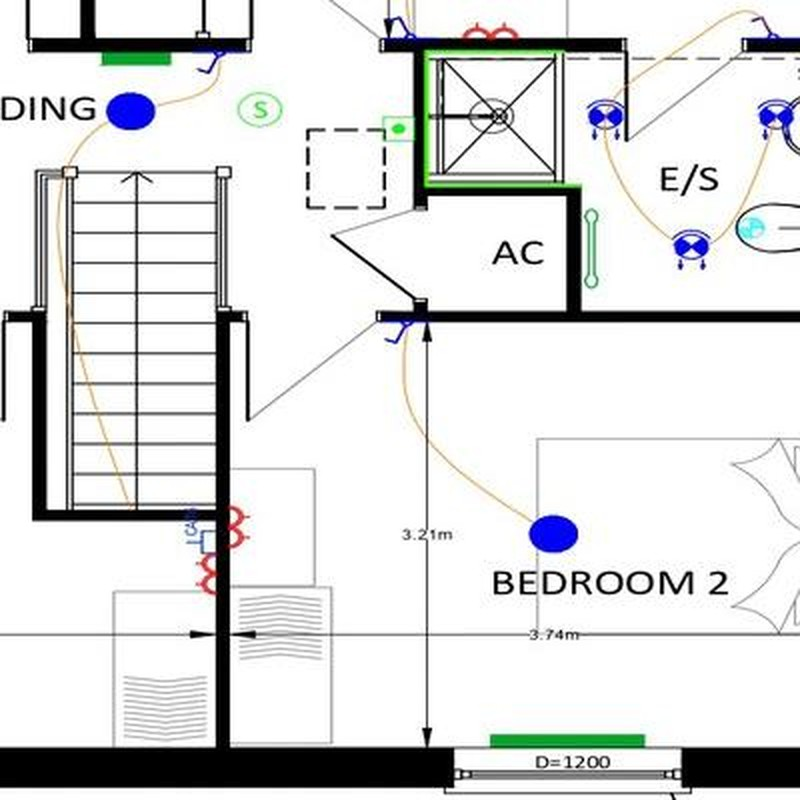Cat 6 Data Socket: (184, 507, 216, 555)
Ceiling Mounted Continuous Extract FanWith Boost Mode Activated By Light Switch: (739, 218, 764, 238)
Double Socket: (229, 506, 251, 548), (195, 554, 216, 596), (464, 23, 518, 39)
Full Height Tiling: (424, 51, 579, 188)
Light Switch: (750, 16, 780, 38), (385, 322, 413, 345), (198, 52, 226, 75), (392, 17, 418, 37)
Low Energy Downlighter: (670, 229, 711, 269), (586, 99, 625, 140), (757, 99, 795, 139)
Low Energy Pendant Light: (530, 515, 578, 553), (107, 93, 156, 130)
Mains Wired Smoke Detector: (239, 94, 282, 127)
Programmable Room Thermostat: (383, 116, 413, 142)
Radiator: (490, 734, 645, 749), (102, 52, 171, 66)
